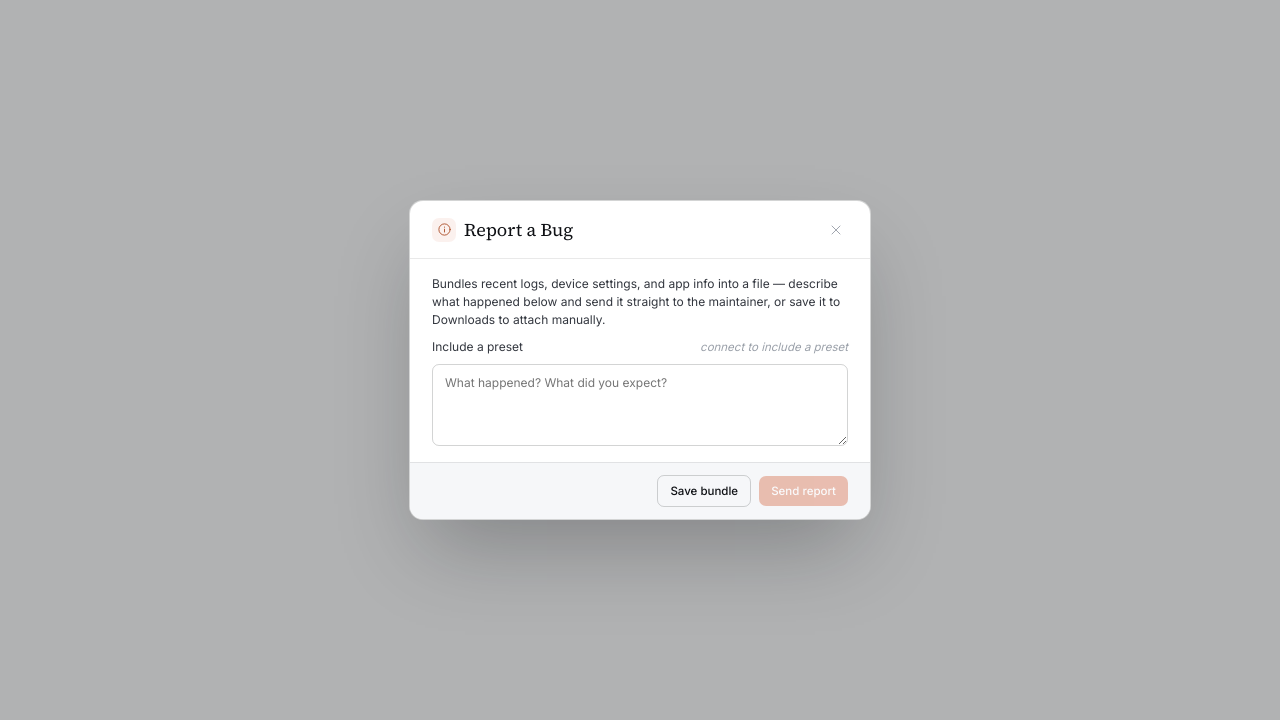
Test: BugReportDialog › sends a report and shows the returned report ID
Type "The level meter froze." into the text box with placeholder "What happened? What did you expect?" at (640,405), box [432, 364, 848, 446]
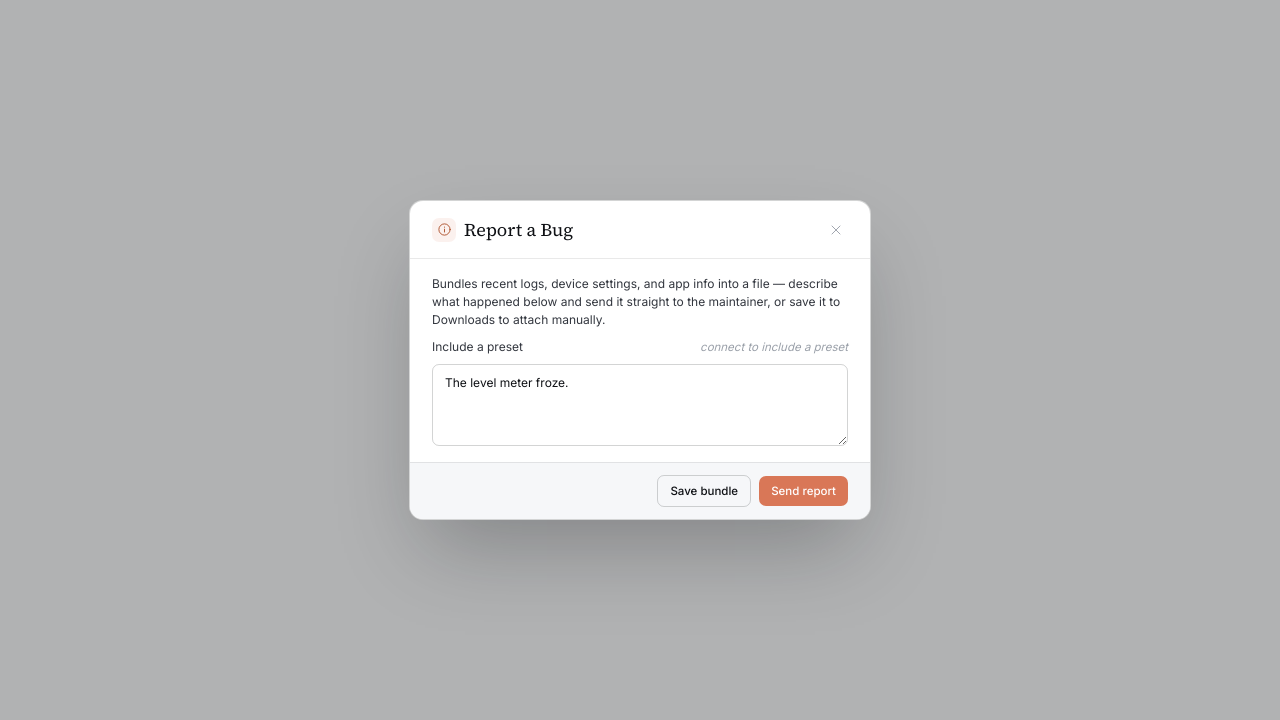
Click the button "Send report" at (804,491), box [759, 476, 848, 506]
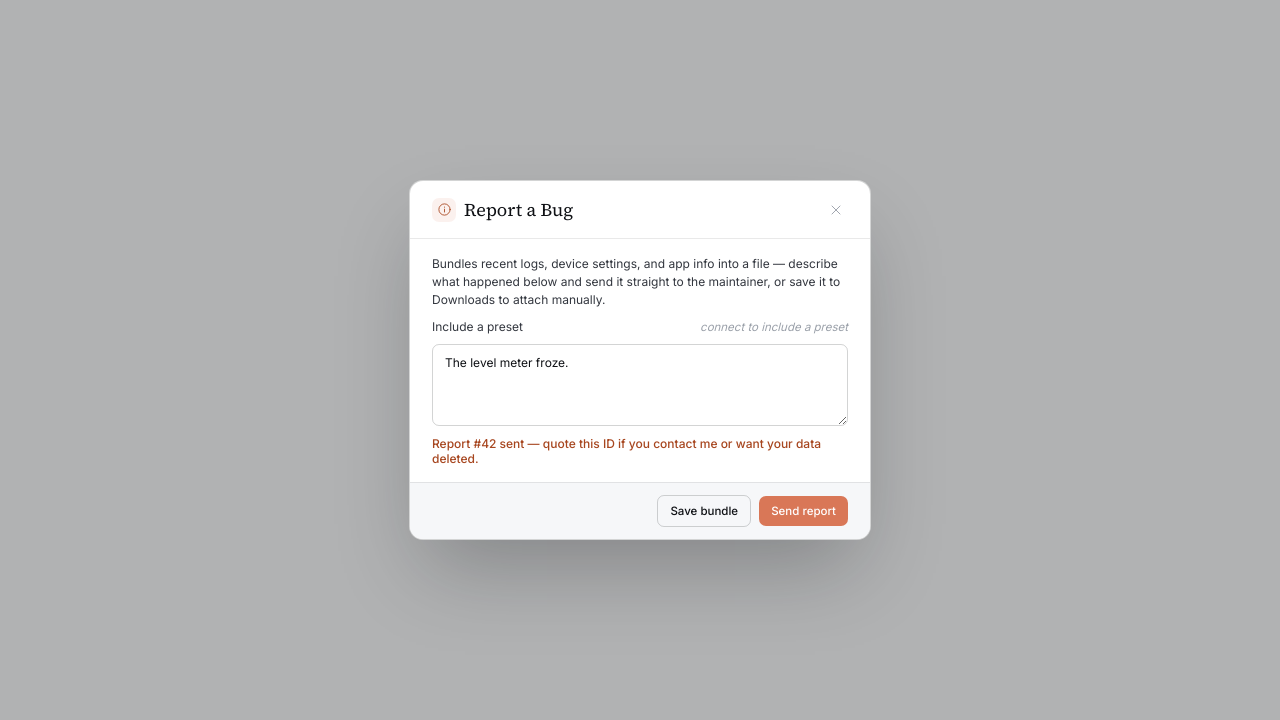
Expected: the text "Report #42 sent" is shown, [432, 436, 848, 466]
